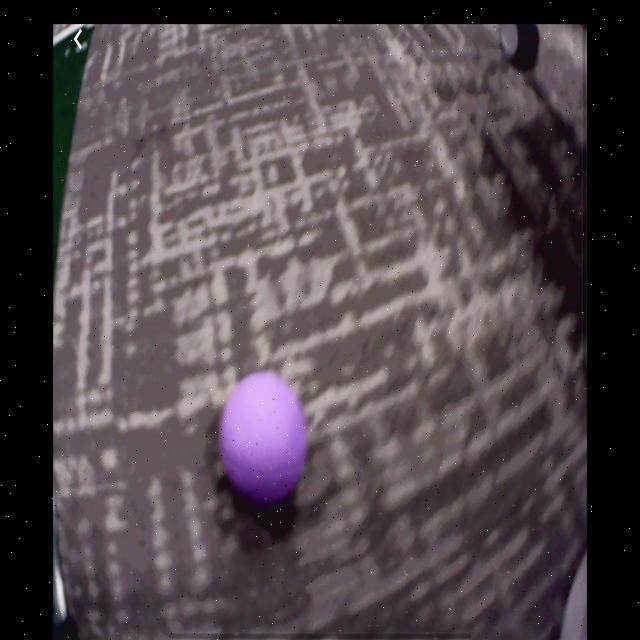ball: (221, 375, 306, 500)
